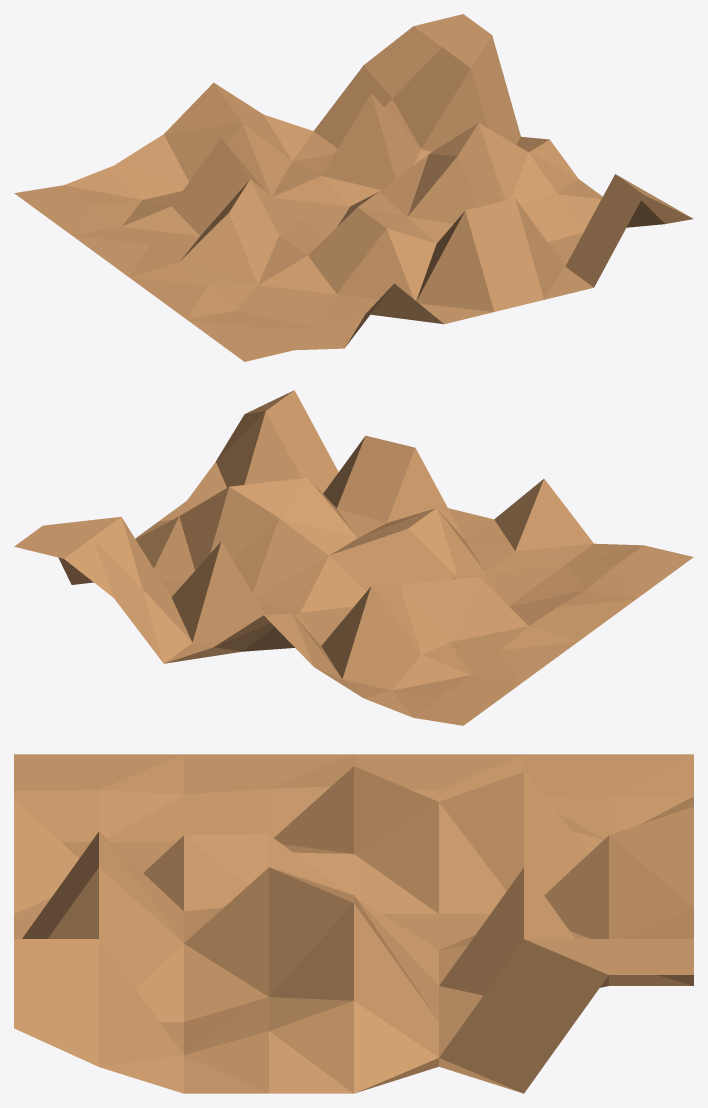
Rendered from mountains_4.dae.
3 renders of one model, top to bottom at view 1: azimuth 30°, elevation 25°; view 2: azimuth 150°, elevation 25°; view 3: azimuth 270°, elevation 25°, orthographic. The views are drawn at different scales.
Visible parts, largest first — view 1: Landscape_004; view 2: Landscape_004; view 3: Landscape_004.
Boxes of the visible parts, box(x1,y1,x2,y2) form: Landscape_004: box(14, 14, 693, 361); Landscape_004: box(14, 390, 693, 725); Landscape_004: box(14, 754, 693, 1093).
Size of the model in its own units: 121 by 108 by 20.77.
